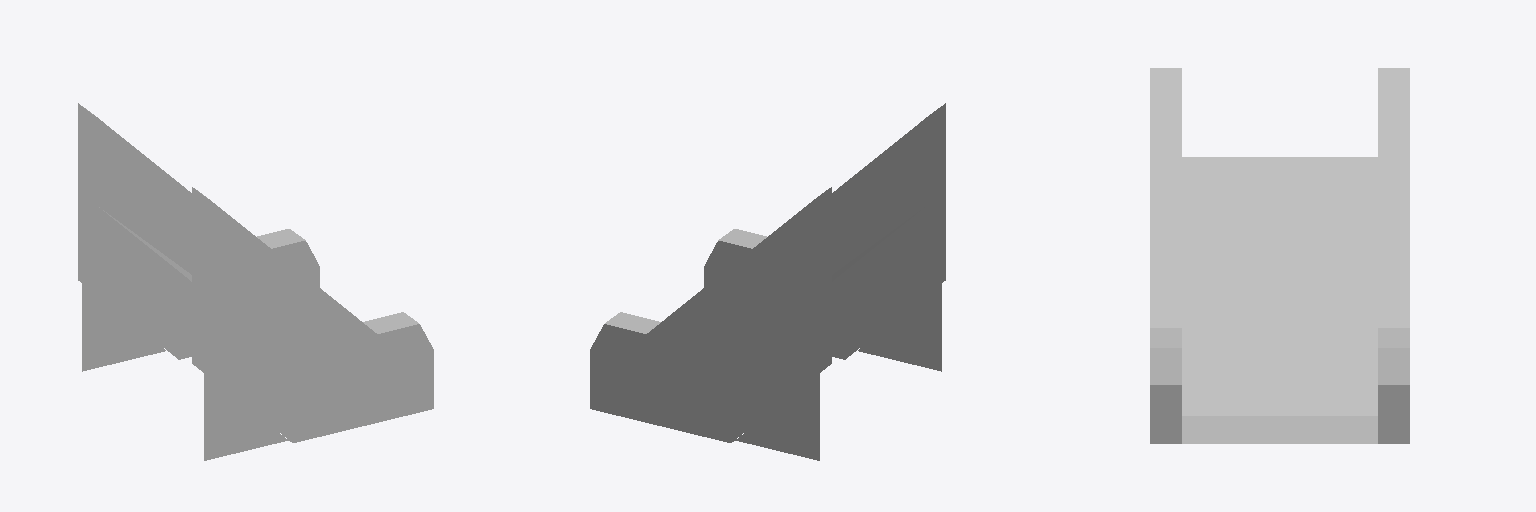
Rendered from Up-Left Escalator.obj.
3 renders of one model, left to right at view 1: azimuth 30°, elevation 25°; view 2: azimuth 150°, elevation 25°; view 3: azimuth 270°, elevation 25°, orthographic.
Parts seen in each view (by area): view 1: polygon2; view 2: polygon2; view 3: polygon0, polygon2, polygon1.
Part boxes in pixels (x1,y1,x2,y2): polygon2: (78, 103, 433, 460); polygon2: (590, 103, 945, 460); polygon0: (1182, 157, 1377, 415); polygon2: (1150, 68, 1409, 443); polygon1: (1182, 416, 1377, 443).
Size of the model in its own units: 32 by 36 by 32.